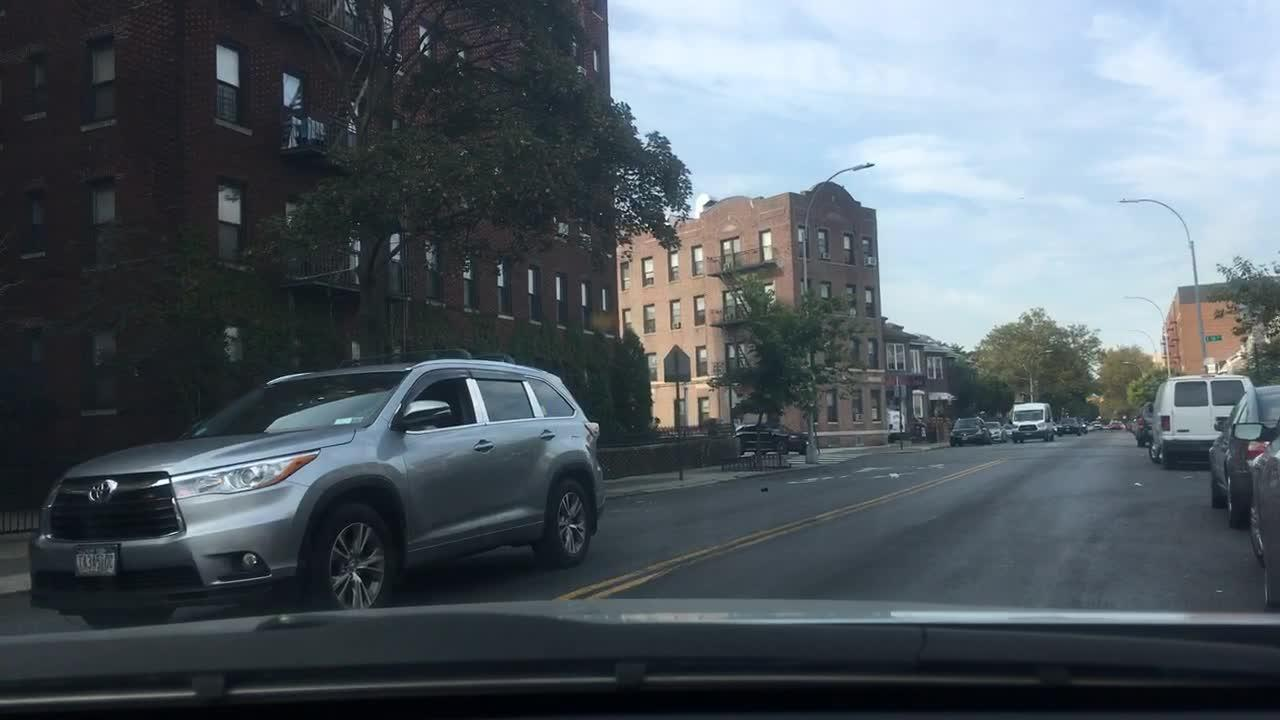Toyota: (77, 476, 129, 510)
